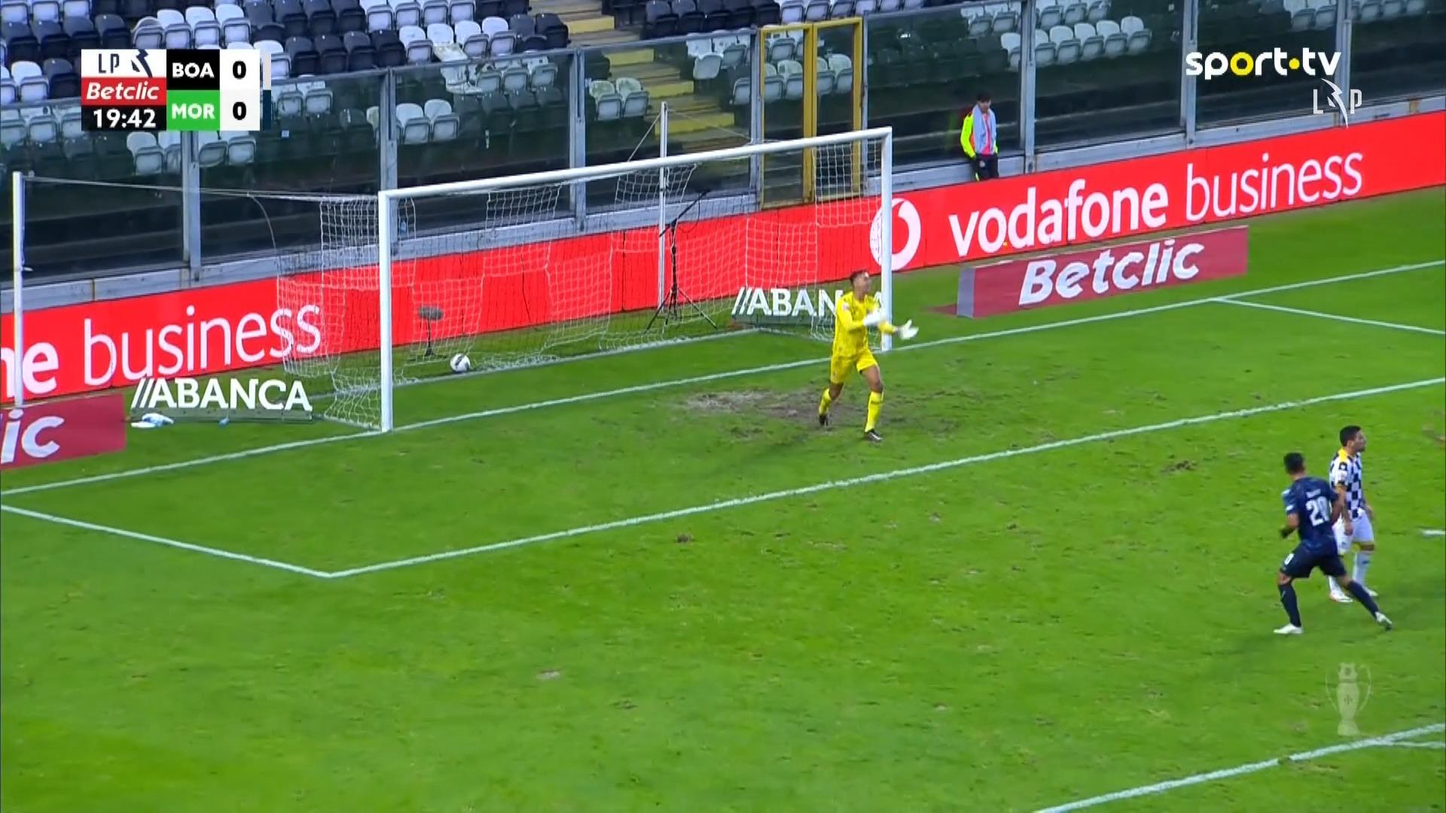ball: (449, 353, 470, 373)
goalkeeper: (816, 267, 918, 442)
player: (1271, 450, 1393, 635), (1326, 424, 1380, 603)
